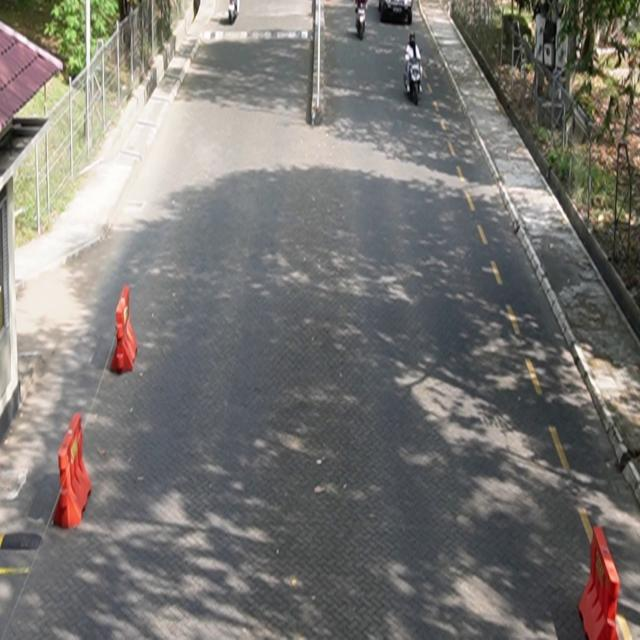car: (379, 1, 414, 25)
